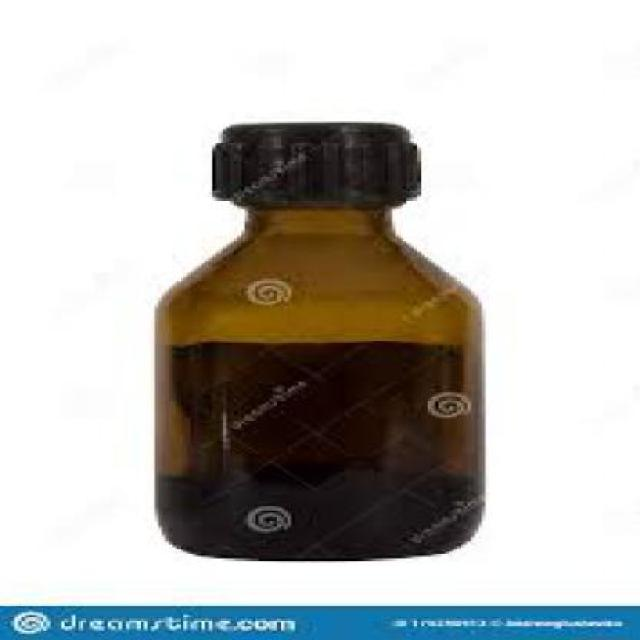kaca: (148, 205, 478, 560)
